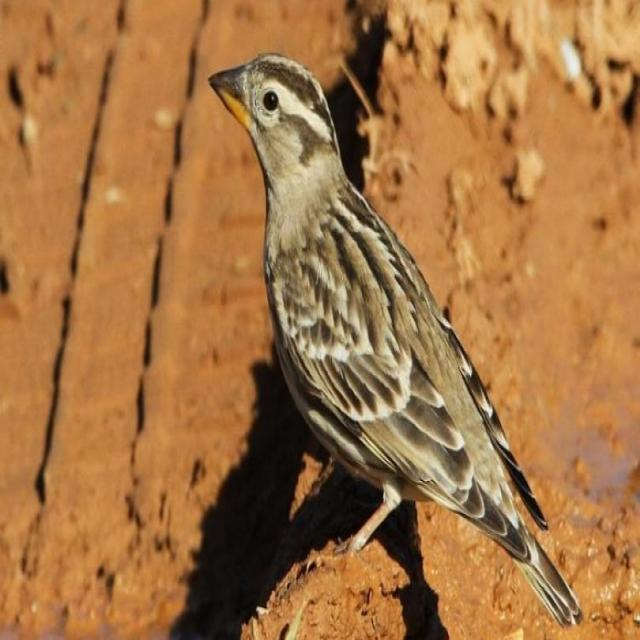bird: (204, 52, 588, 633)
